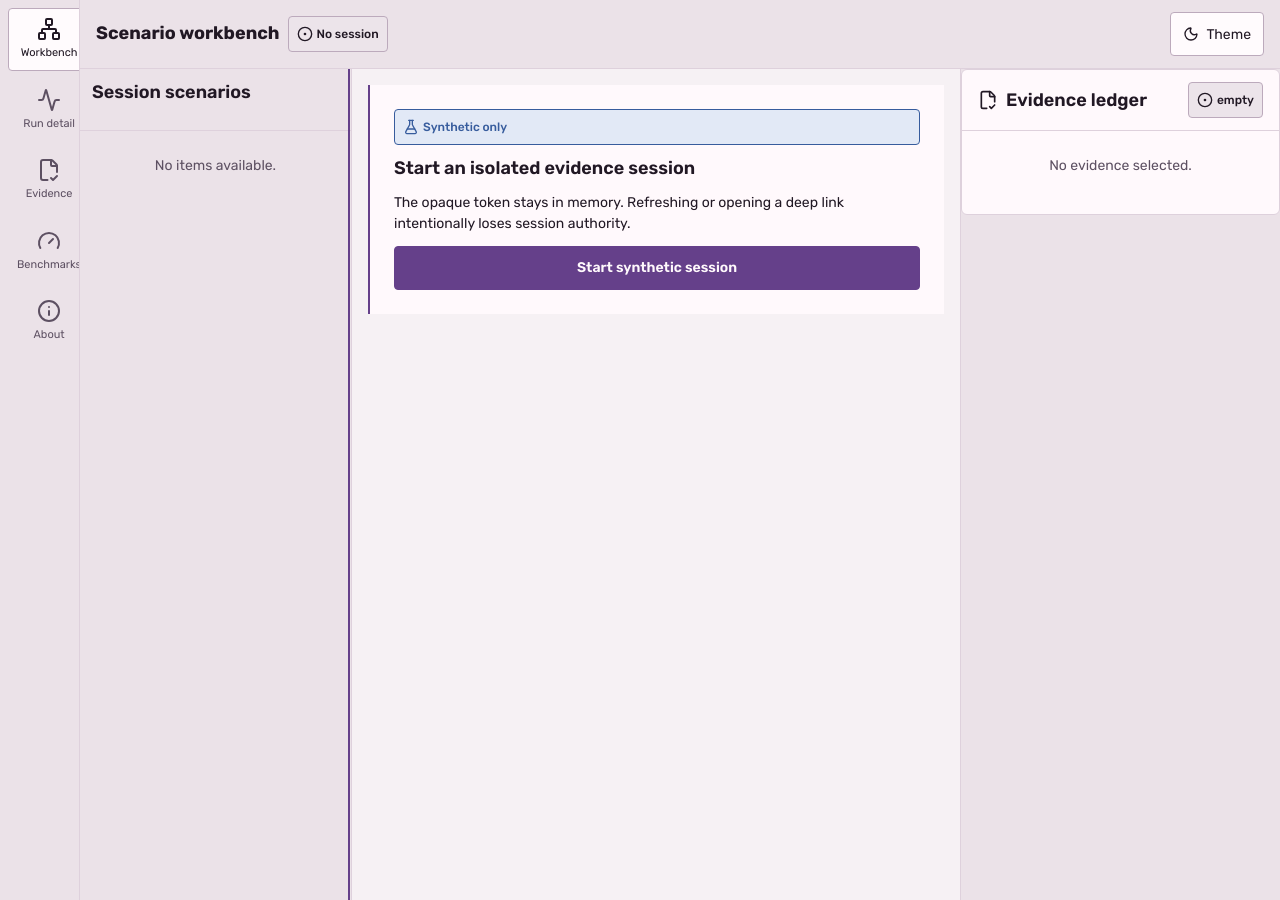
Test: artifact-backed secondary routes › runs the server determinism probe without inventing model quality metrics
Click the button "Start synthetic session" at (657, 268), box [394, 246, 920, 290]
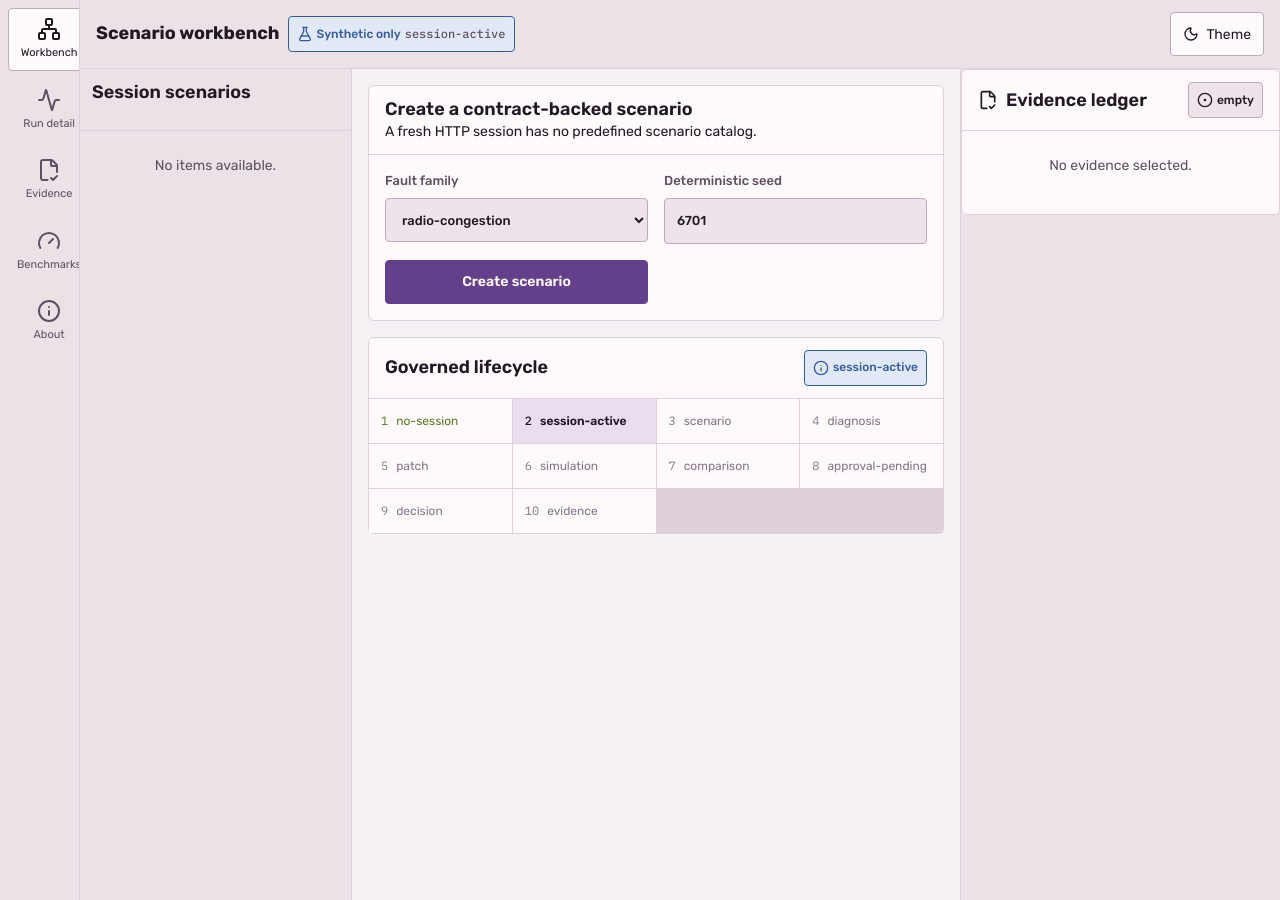
Click the link "Benchmarks" at (49, 250), box [17, 228, 81, 270]
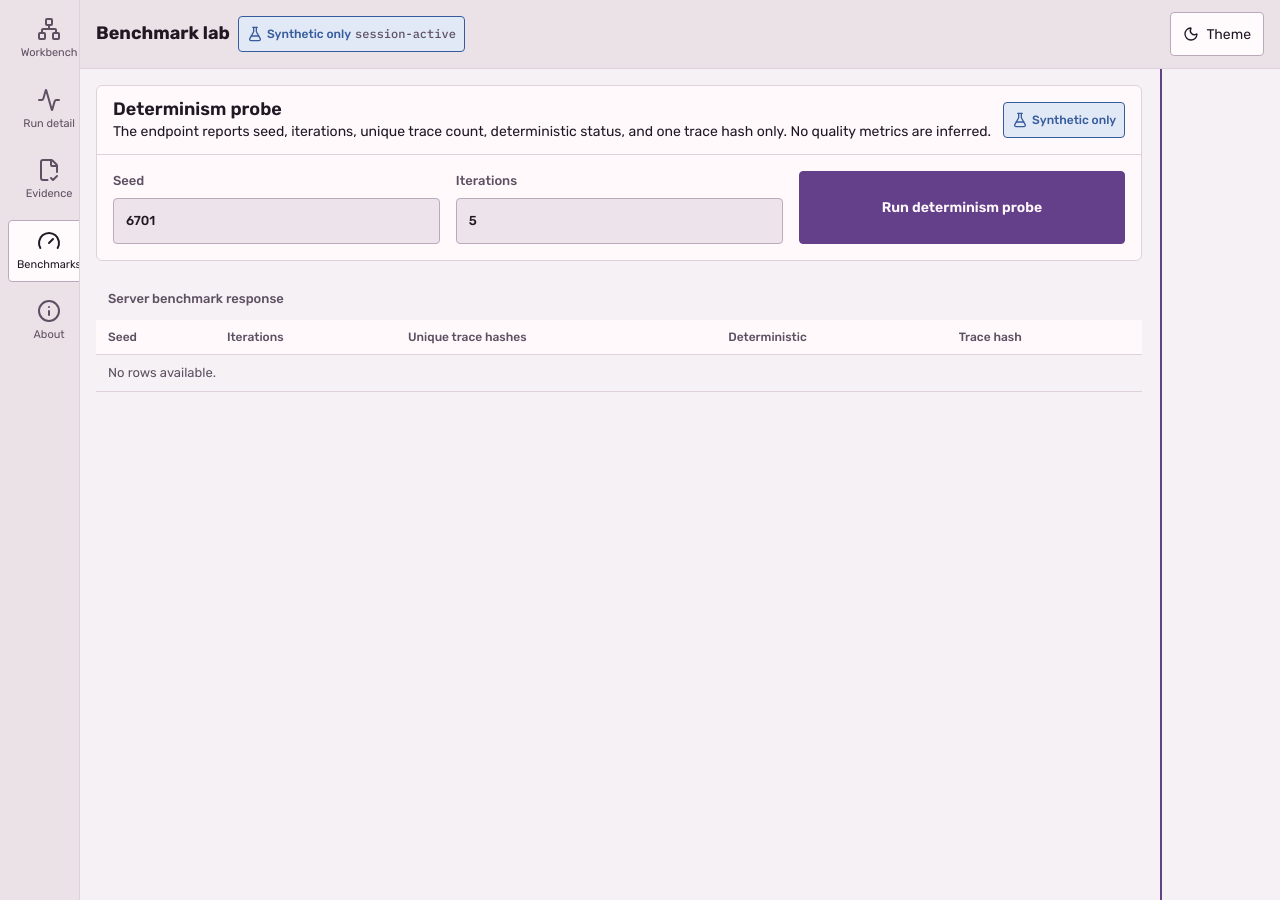
Click the button "Run determinism probe" at (962, 207), box [798, 170, 1125, 244]
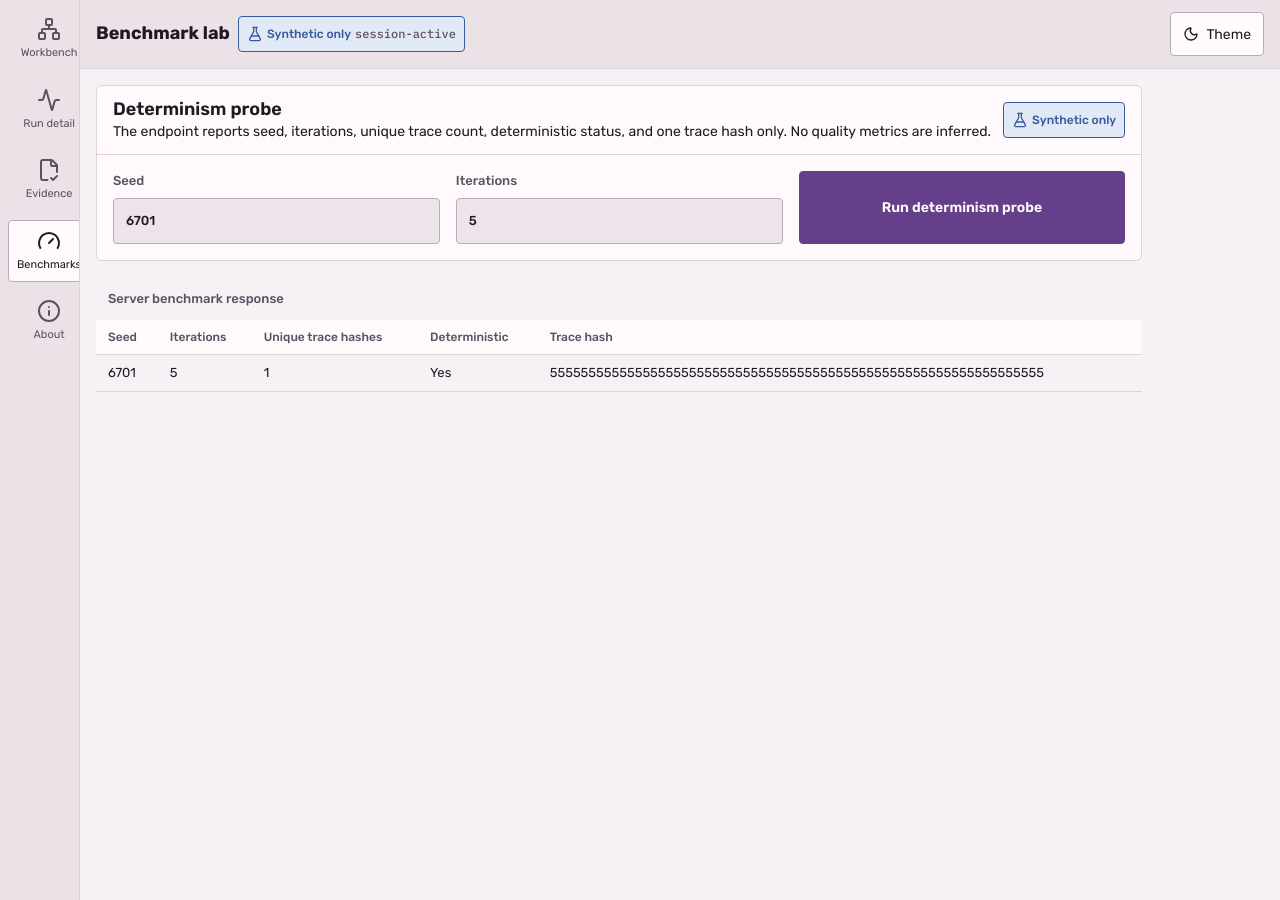
Check: the text "Server benchmark response" is shown, box [108, 290, 284, 306]
Check: the cell "Yes" is shown, box [418, 354, 538, 391]
Check: the cell "1" is shown, box [252, 354, 418, 391]
